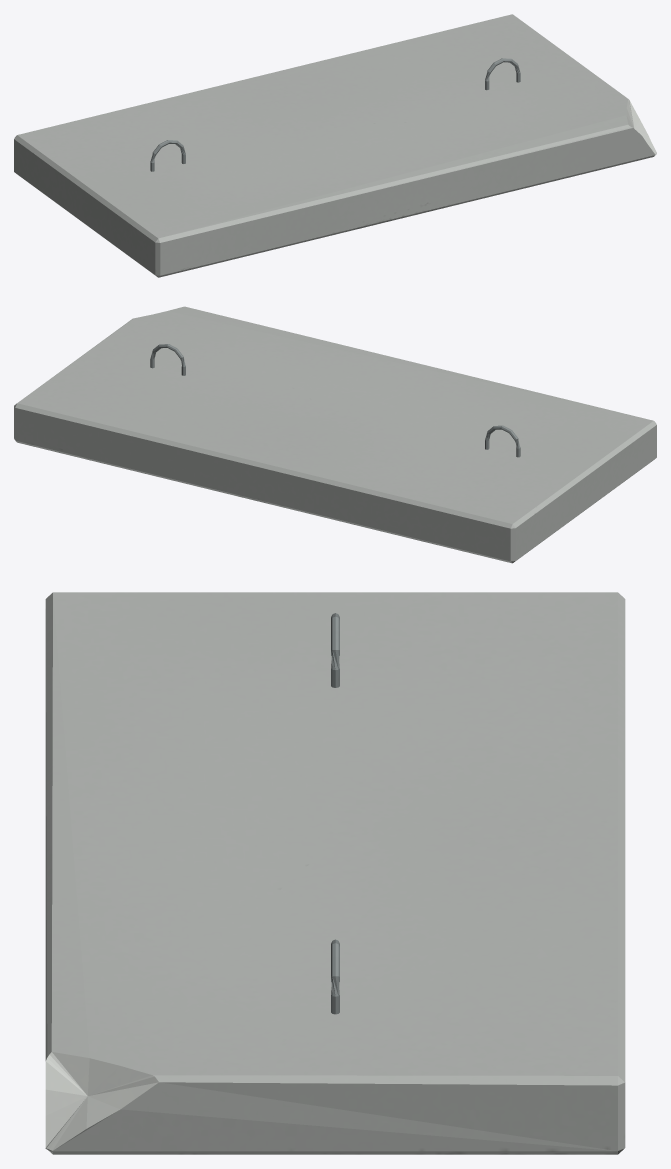
Rendered from concrete_slab_horizontal.glb.
3 renders of one model, top to bottom at view 1: azimuth 30°, elevation 25°; view 2: azimuth 150°, elevation 25°; view 3: azimuth 270°, elevation 25°, orthographic. The views are drawn at different scales.
Parts seen in each view (by area): view 1: ConcreteSlabHorizontal; view 2: ConcreteSlabHorizontal; view 3: ConcreteSlabHorizontal.
Part boxes in pixels (x1,y1,x2,y2): ConcreteSlabHorizontal: (14, 14, 656, 277); ConcreteSlabHorizontal: (14, 306, 656, 563); ConcreteSlabHorizontal: (45, 592, 625, 1154).
Size of what is drawn, in the model's own units: 2.4 by 0.304 by 1.2.
Materials: 1 (1 with a texture image).
